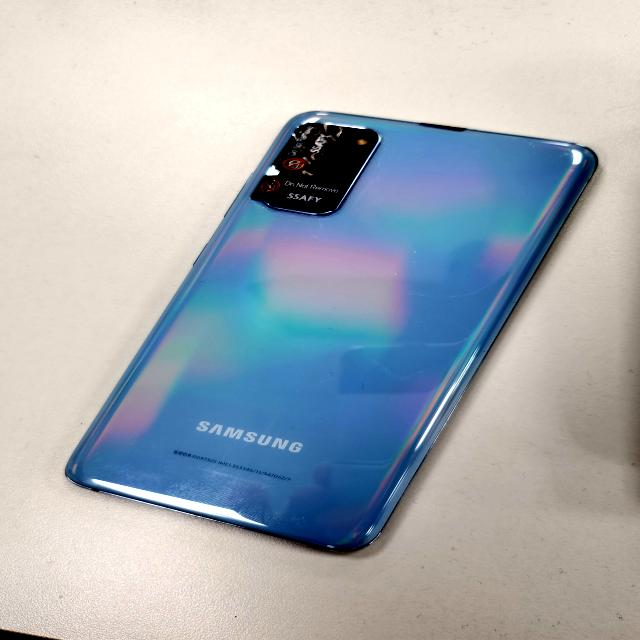phone: (65, 109, 598, 555)
removed_sticker: (276, 124, 342, 174)
sticker: (255, 177, 344, 209)
